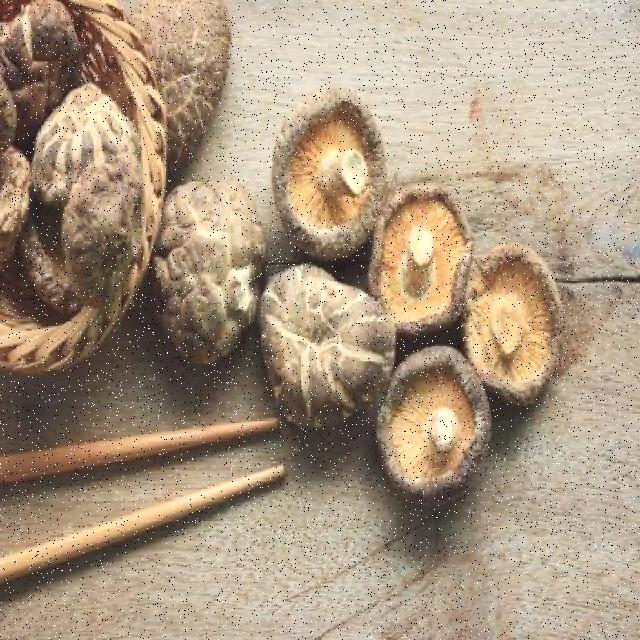Mushroom: (464, 212, 581, 422), (374, 319, 498, 515), (262, 57, 380, 261), (364, 155, 482, 334)
